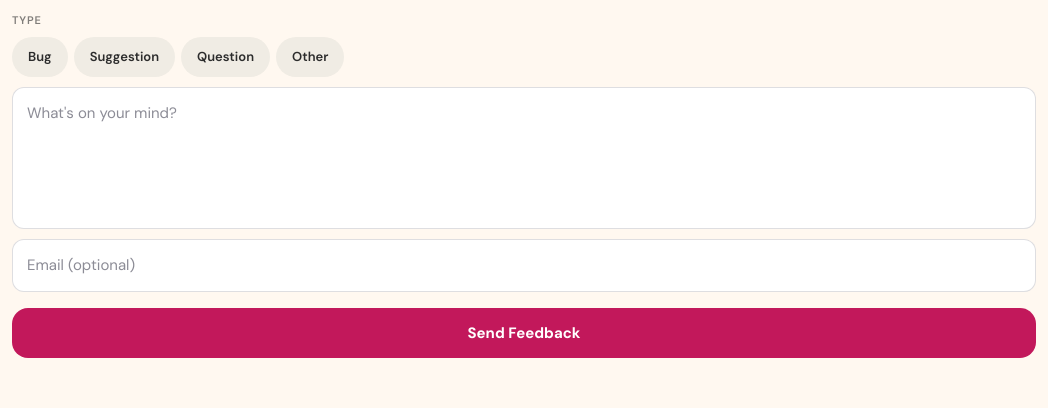
Test: FeedbackForm › blocks submission and shows an inline error when no type is chosen
The width and height of the screenshot is (1048, 408).
Type "Something broke" into the text box named "Feedback message". click: (524, 158)
box: [12,86,1036,229]
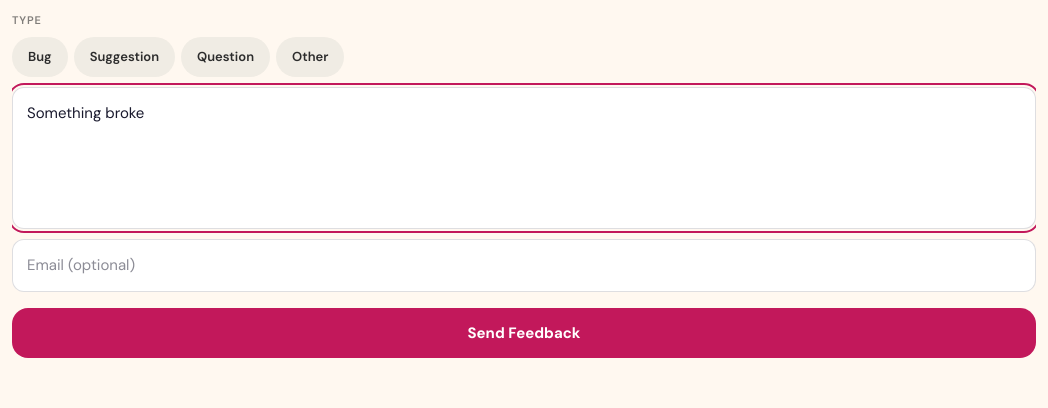
Click the button "Send Feedback". click: (524, 333)
box: [12,308,1036,358]
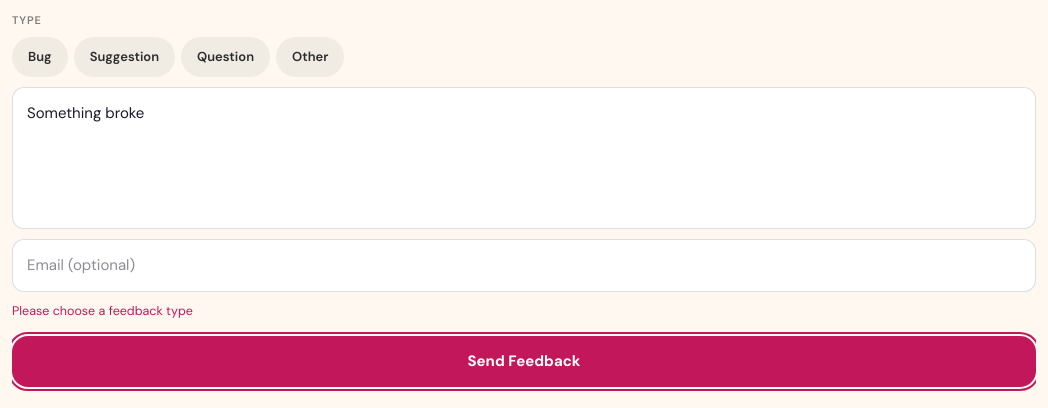
Expected: the message shows "choose a feedback type", [12,302,193,318]
